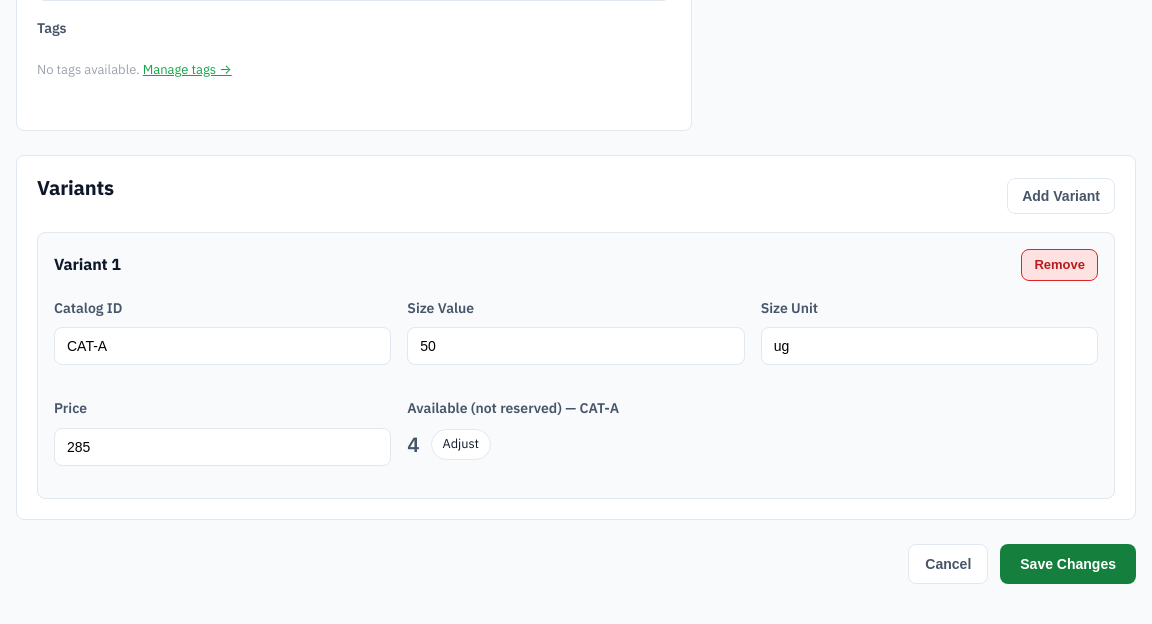
Test case: AdminProductDetailPage stock › refuses a fractional adjustment before the server has to
The image size is (1152, 624).
(page scrolled)
Check: the text "4" is shown, box x1=407 y1=428 x2=420 y2=461
Click the button "Adjust" at (461, 444), box x1=431 y1=428 x2=491 y2=460
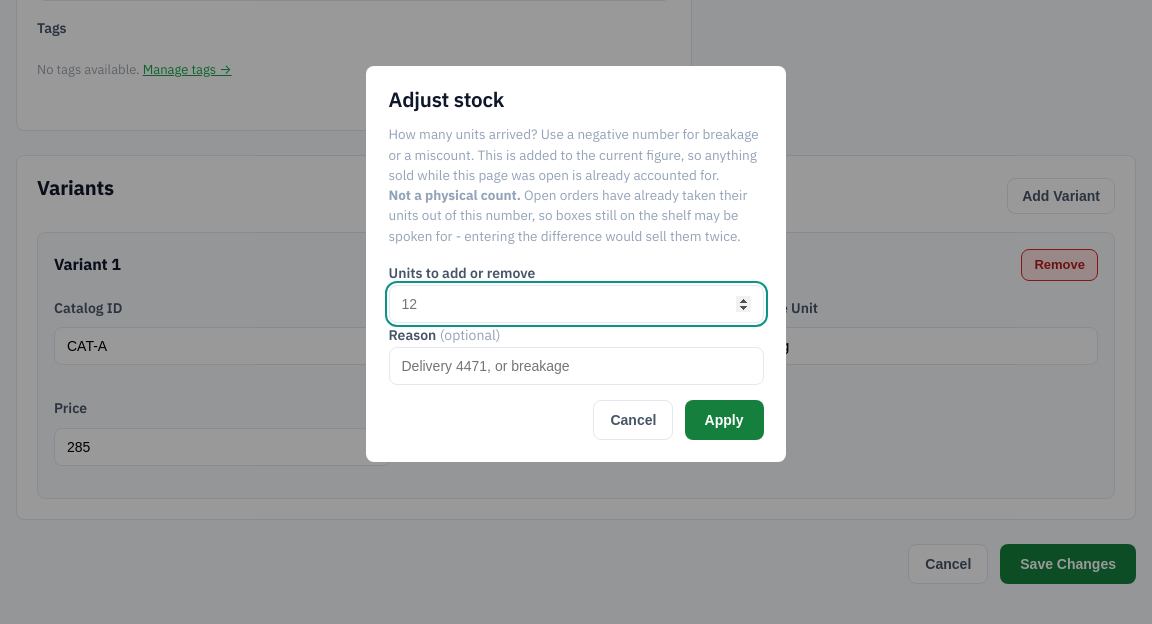
Type "2.5" into the number field labelled "Units to add or remove" at (576, 304), box x1=388 y1=285 x2=764 y2=323
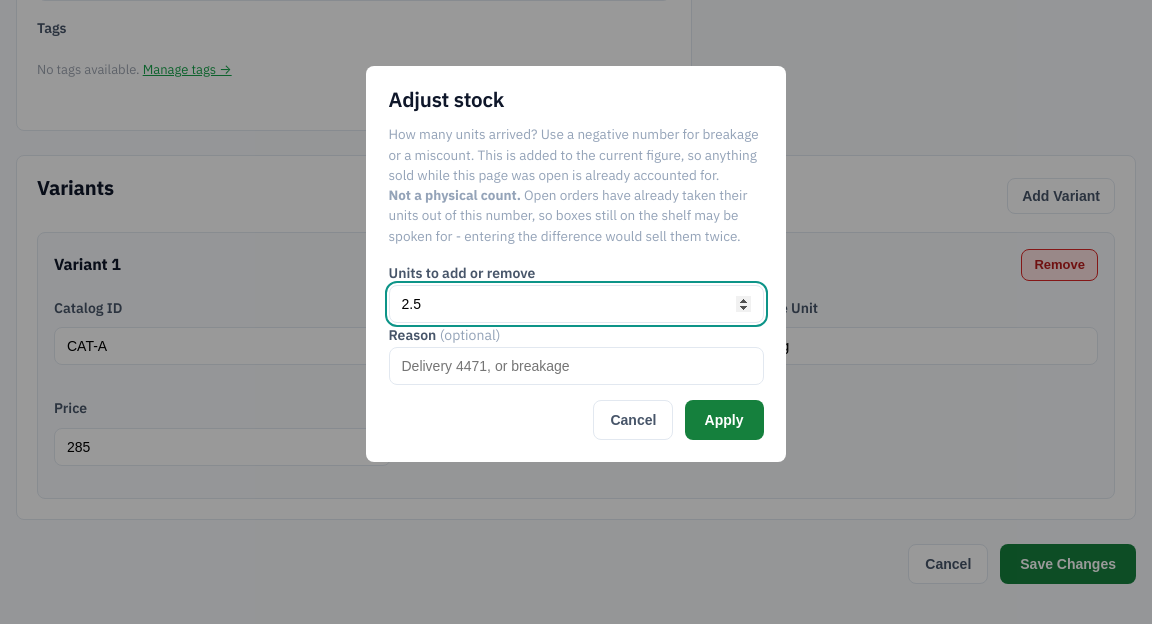
Click the button "Apply" at (724, 420), box x1=685 y1=400 x2=764 y2=440
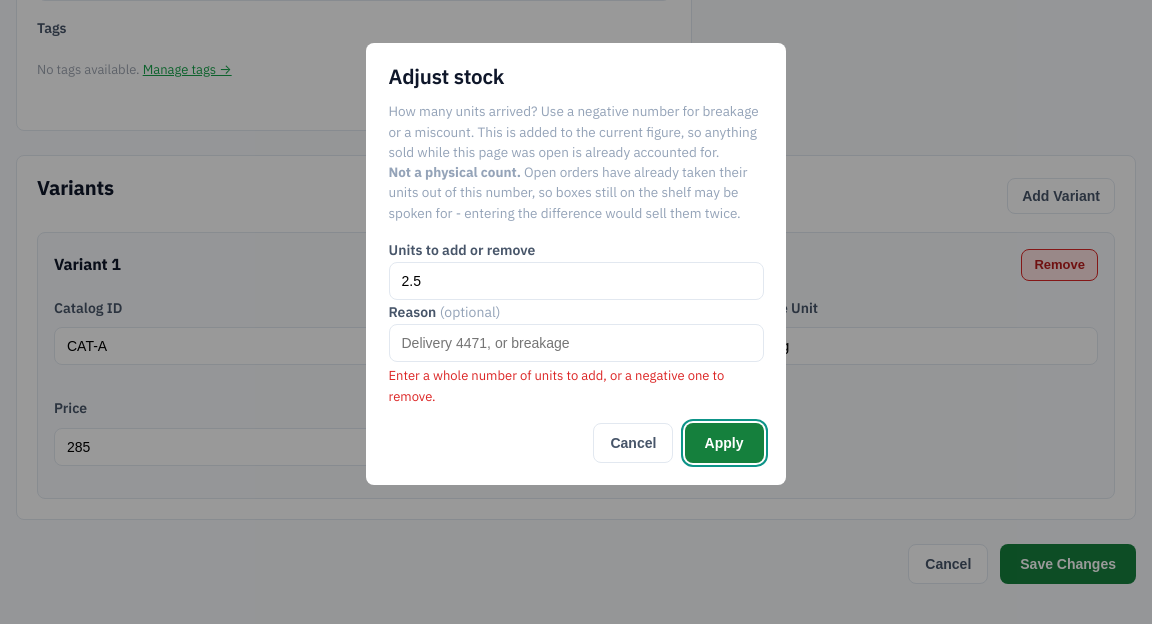
Check: the text "Enter a whole number of units to add, or a negative one to remove." is shown, box x1=388 y1=366 x2=764 y2=408
